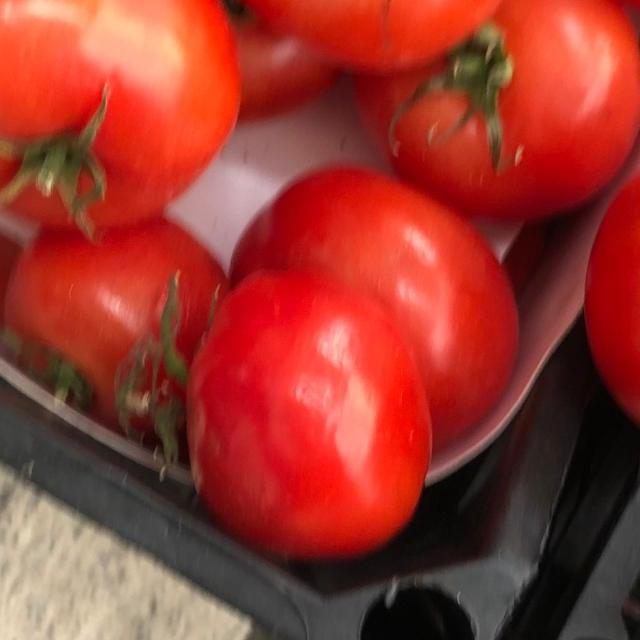tomato: (0, 0, 257, 235)
